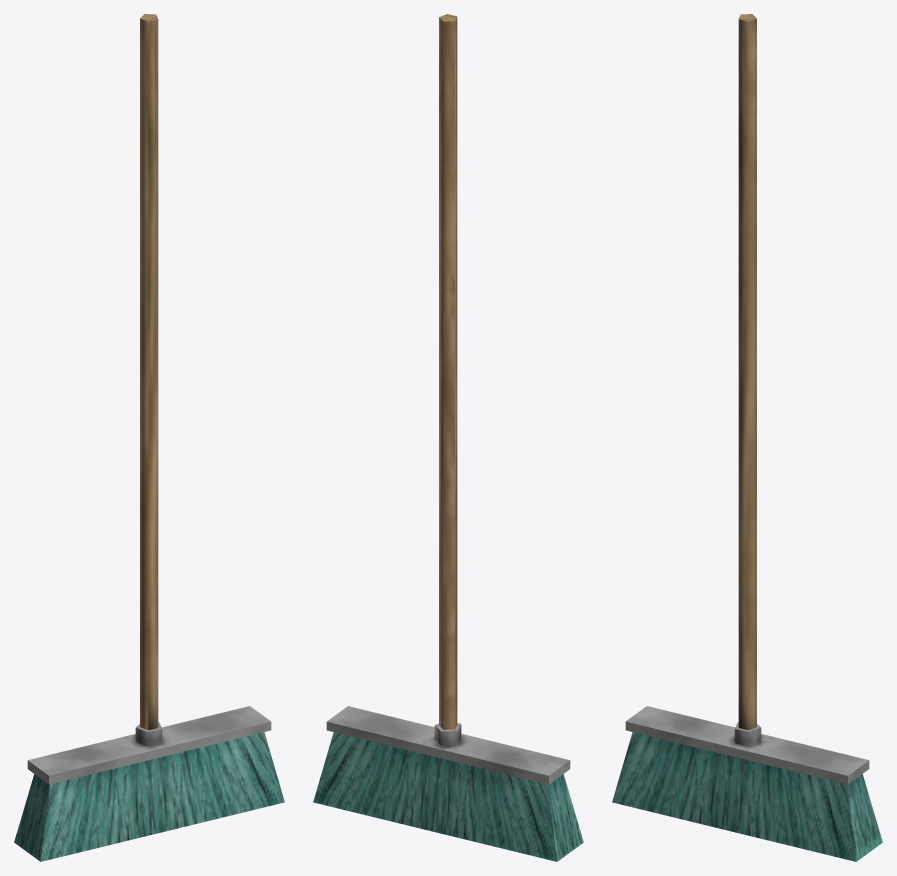
File: Broom-col.glb
3 views of the same model, side by side, from view 1: azimuth 30°, elevation 25°; view 2: azimuth 150°, elevation 25°; view 3: azimuth 330°, elevation 25° (orthographic).
Visible parts, largest first — view 1: Broom-col; view 2: Broom-col; view 3: Broom-col.
Boxes of the visible parts, x1,y1,x2,y2 form: Broom-col: (14,14,284,861); Broom-col: (313,14,583,861); Broom-col: (612,14,882,861).
Size of the model in its own units: 0.4466 by 1.41 by 0.0844.
Materials: 1 (1 with a texture image).
